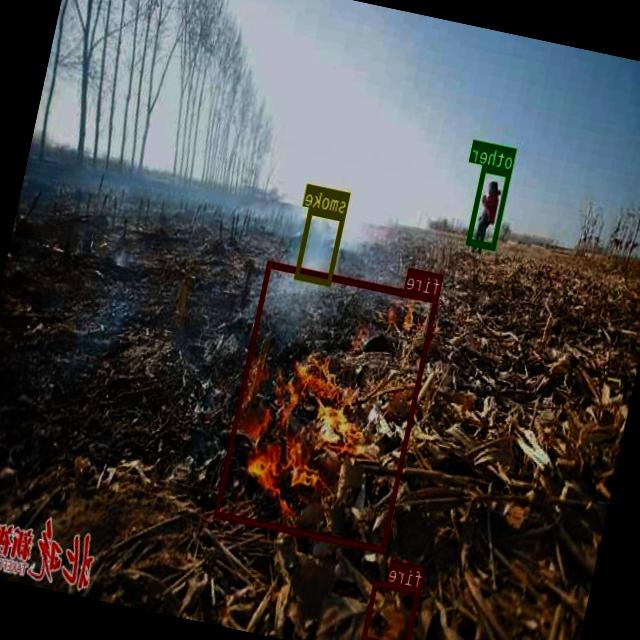fire: (215, 260, 439, 552), (362, 578, 422, 640)
smoke: (294, 207, 346, 286)
